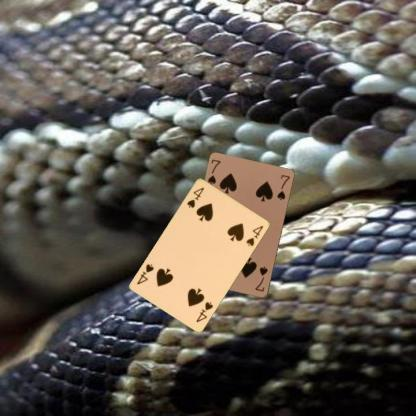4s: (184, 184, 206, 209), (193, 298, 214, 324)
7s: (252, 263, 270, 293), (205, 157, 222, 186)
